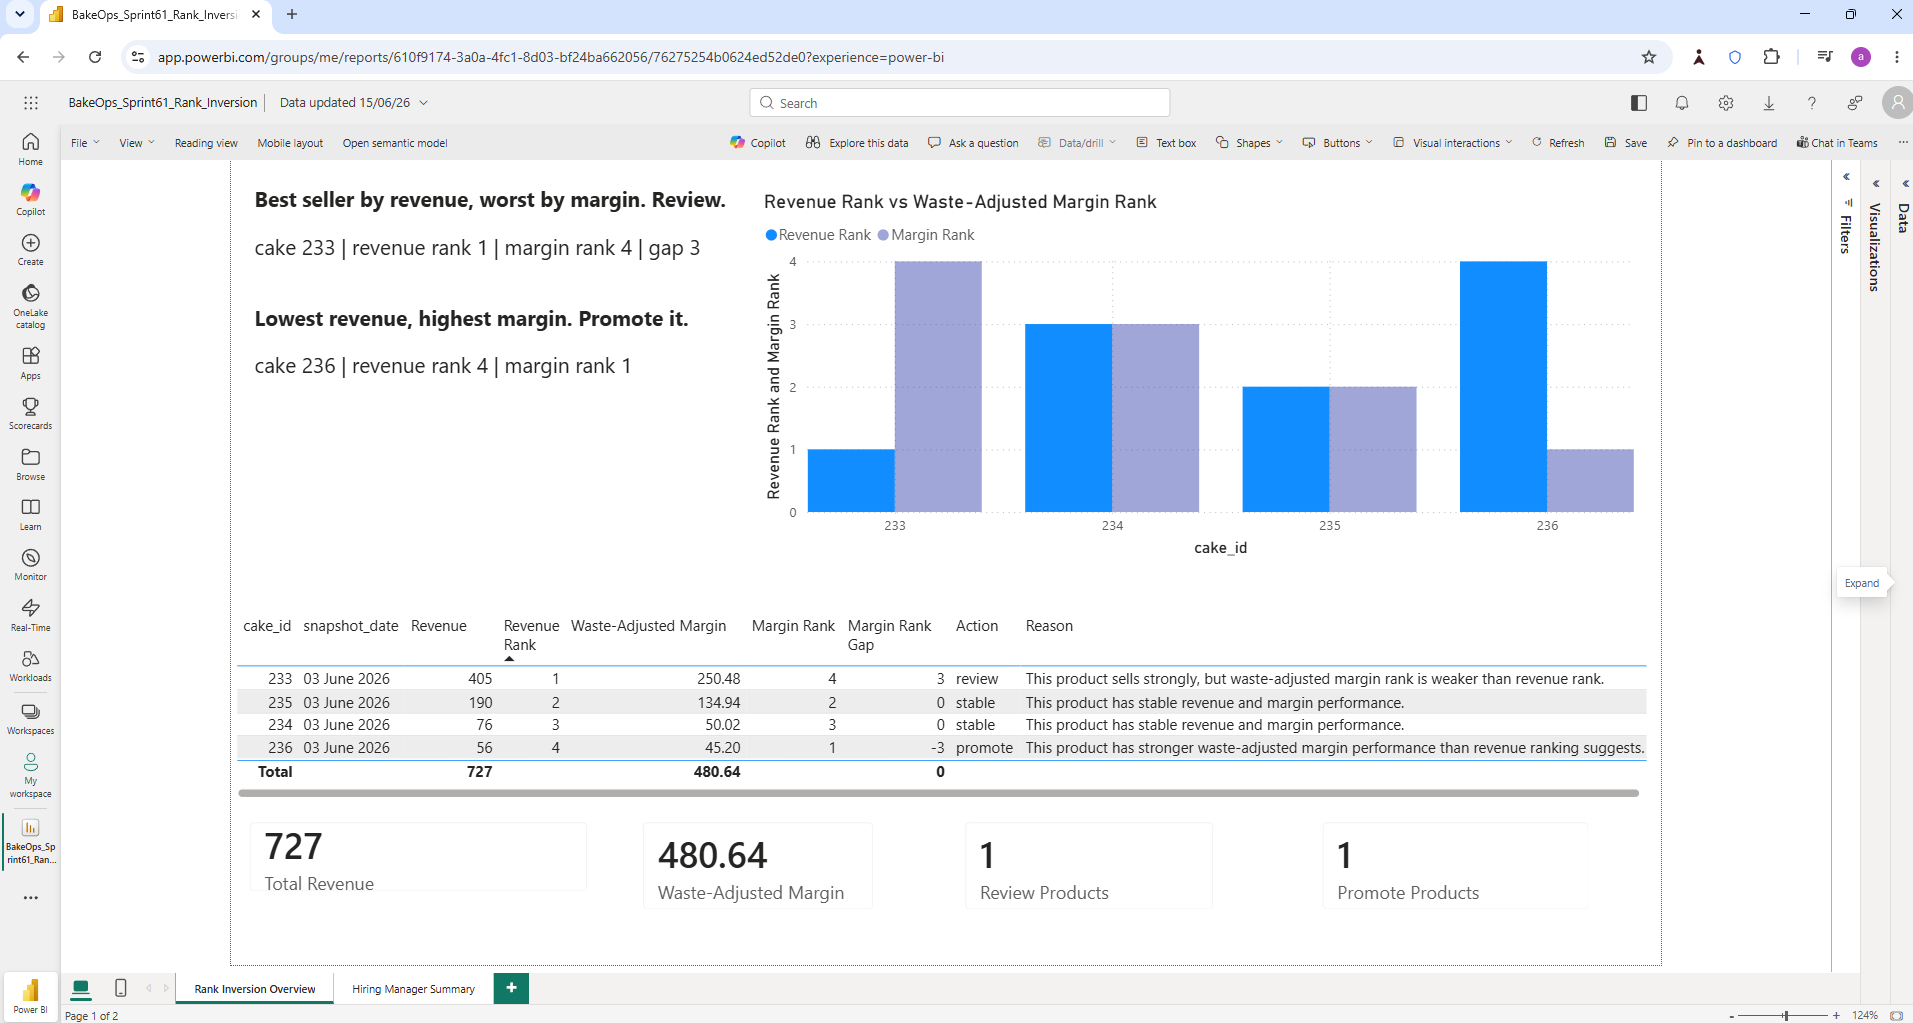

The dashboard page shown, as its layout file describes it:
{"tool":"powerbi","page":{"name":"Rank Inversion Overview","canvas":[1280,720],"ordinal":0},"visuals":[{"type":"textbox","box":[16,0,464,96],"z":0},{"type":"textbox","box":[16,112,464,96],"z":1000},{"type":"tableEx","fields":{"Values":["Fact_ProductPerformanceSnapshot.cake_id","Fact_ProductPerformanceSnapshot.snapshot_date","Sum(Fact_ProductPerformanceSnapshot.revenue)","Fact_ProductPerformanceSnapshot.revenue_rank","Sum(Fact_ProductPerformanceSnapshot.waste_adjusted_margin)","Fact_ProductPerformanceSnapshot.waste_adjusted_margin_rank","Sum(Fact_ProductPerformanceSnapshot.Margin Rank Gap)","Fact_ProductPerformanceSnapshot.action_flag","Fact_ProductPerformanceSnapshot.action_reason"]},"box":[0,368,1280,176],"z":2000},{"type":"clusteredColumnChart","title":"Revenue Rank vs Waste-Adjusted Margin Rank","fields":{"Category":["Fact_ProductPerformanceSnapshot.cake_id"],"Y":["Sum(Fact_ProductPerformanceSnapshot.revenue_rank)","Sum(Fact_ProductPerformanceSnapshot.waste_adjusted_margin_rank)"]},"box":[496,0,784,336],"z":3000},{"type":"cardVisual","fields":{"Data":["z_Measures.Total Revenue"]},"box":[0,576,336,96],"z":4000},{"type":"cardVisual","fields":{"Data":["z_Measures.Waste Adjusted Margin"]},"box":[352,576,240,112],"z":5000},{"type":"cardVisual","fields":{"Data":["z_Measures.Review Product Count"]},"box":[640,576,256,112],"z":6000},{"type":"cardVisual","fields":{"Data":["z_Measures.Promote Product Count"]},"box":[960,576,272,112],"z":7000}]}

Visuals, with their boxes on the page's 1280x720 design canvas (x1, y1, x2, y2). These are canvas units, not pixel positions in the 1913x1023 screenshot, which may show the page scaled, cropped or inside an application window:
textbox: 16/0/480/96
textbox: 16/112/480/208
tableEx - Fact_ProductPerformanceSnapshot.cake_id x Fact_ProductPerformanceSnapshot.snapshot_date: 0/368/1280/544
"Revenue Rank vs Waste-Adjusted Margin Rank" clusteredColumnChart: 496/0/1280/336
cardVisual - z_Measures.Total Revenue: 0/576/336/672
cardVisual - z_Measures.Waste Adjusted Margin: 352/576/592/688
cardVisual - z_Measures.Review Product Count: 640/576/896/688
cardVisual - z_Measures.Promote Product Count: 960/576/1232/688
